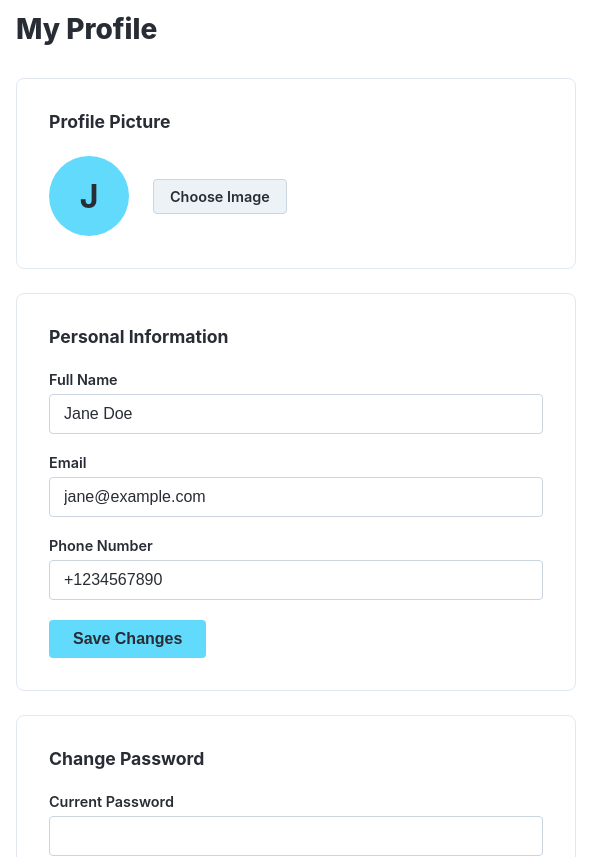
it: ProfilePage › profile info form › shows a success banner after a successful profile update
Expected: the field labelled "Full Name" is shown, [49,394,543,434]
Click the button "Save Changes" at (128, 639), box [49,620,206,658]
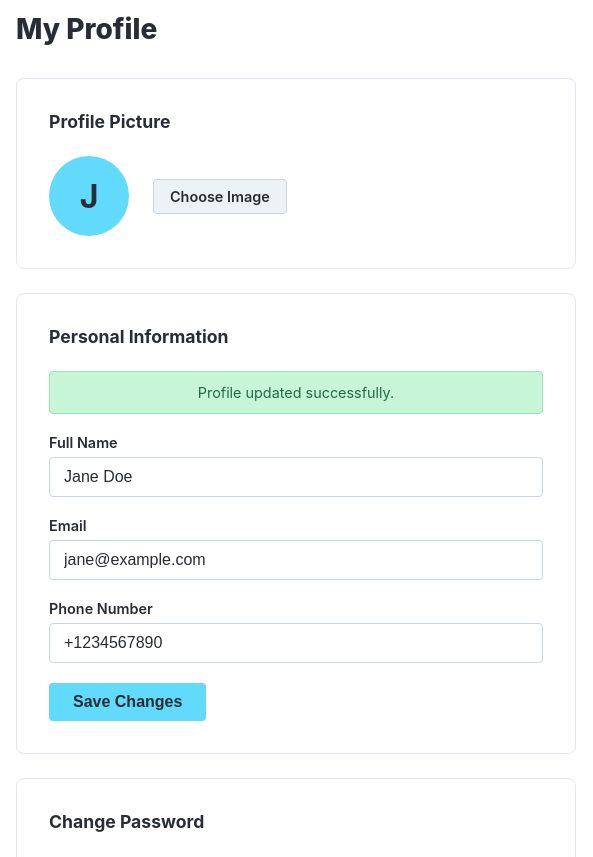
Now the message shows "Profile updated successfully", box [198,384,394,401]
